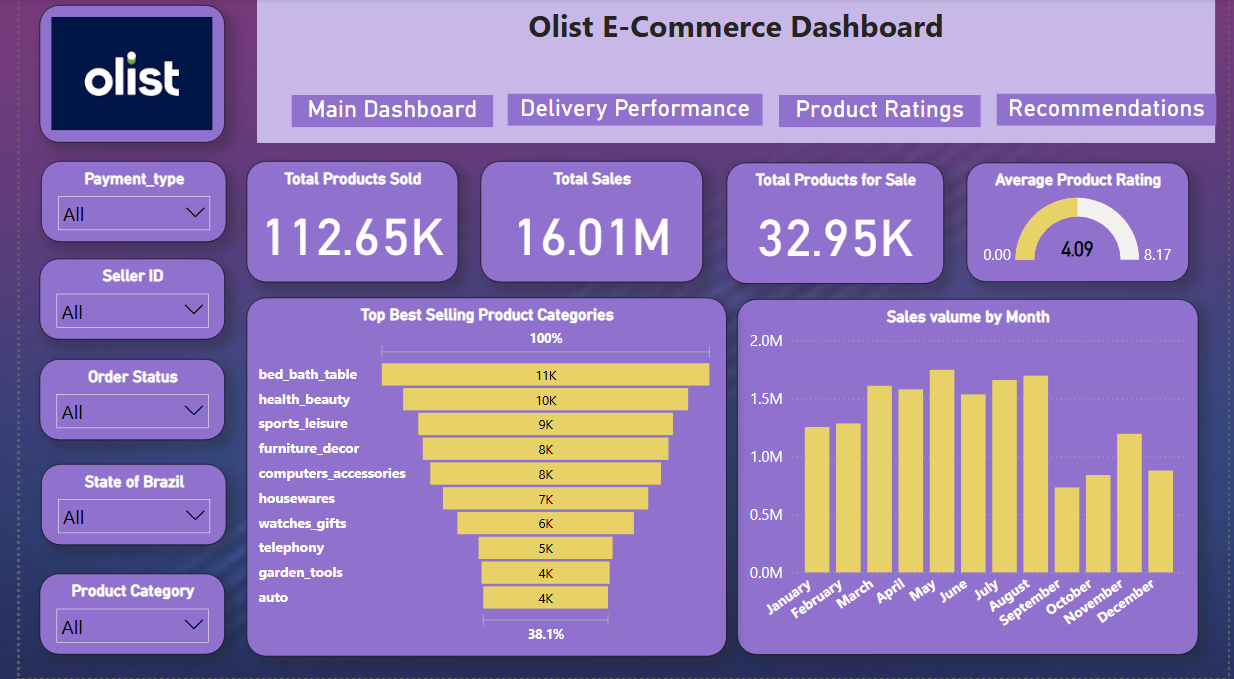

Layout of this report page (visuals, bound fields, positions):
{"tool":"powerbi","page":{"name":"Page 1","canvas":[1280,720],"ordinal":0},"visuals":[{"type":"card","title":"Total Sales","fields":{"Values":["Sum(olist_order_payments.payment_value)"]},"box":[487.7,172.3,235.7,128.4],"z":0},{"type":"card","title":"Total Products  Sold","fields":{"Values":["olist_order_items.Total_Products_sold"]},"box":[240.6,172.3,224.4,128.4],"z":1000},{"type":"slicer","title":"Product Category","fields":{"Values":["product_category_name_translation.product_category_name_english"]},"box":[21.1,609.7,196.7,86.2],"z":2000},{"type":"slicer","title":"Order Status","fields":{"Values":["olist_orders.order_status"]},"box":[21.1,382.1,196.7,86.2],"z":3000},{"type":"slicer","title":"State of Brazil","fields":{"Values":["customer_olist.customer_state"]},"box":[22.8,492.6,196.7,86.2],"z":4000},{"type":"slicer","title":"Seller ID","fields":{"Values":["olist_sellers.seller_id"]},"box":[21.1,274.8,196.7,86.2],"z":5000},{"type":"slicer","title":"Payment_type","fields":{"Values":["olist_order_payments.payment_type"]},"box":[22.8,172.3,196.7,86.2],"z":6000},{"type":"card","title":"Total Products  for Sale","fields":{"Values":["olist_products.Total_product_for_sales"]},"box":[749.5,174,230.9,128.4],"z":7000},{"type":"gauge","title":"Average Product Rating","fields":{"Y":["olist_order_reviews.Avg Rating"]},"box":[1003.1,174,235.7,126.8],"z":8000},{"type":"columnChart","title":"Sales valume by Month","fields":{"Category":["olist_orders.order_purchase_timestamp.Variation.Date Hierarchy.Month"],"Y":["Sum(olist_order_payments.payment_value)"]},"box":[760.9,318.6,489.4,377.2],"z":9000},{"type":"textbox","box":[252,0,1016.1,152.8],"z":10000},{"type":"image","box":[21.1,6.5,196.7,146.3],"z":11000},{"type":"funnel","title":"Top Best Selling Product Categories","fields":{"Y":["olist_order_items.Total_Products_sold"],"Category":["product_category_name_translation.product_category_name_english"]},"box":[240.1,316.7,509.2,380.9],"z":12000},{"type":"actionButton","title":"Main Dashboard","box":[288.3,102,213.8,40.5],"z":13000},{"type":"actionButton","title":"Delivery Performance","box":[516.6,100.4,270.5,40.5],"z":14000},{"type":"actionButton","title":"Product Ratings","box":[804.9,102,213.8,40.5],"z":15000},{"type":"actionButton","title":"Recommendations","box":[1034.9,100.4,233.2,40.5],"z":16000}]}

Visuals, with their boxes in screenshot pixels (x1, y1, x2, y2), scaled from the page's 1280x720 canvas onto the 1234x679 screenshot:
"Total Sales" card: <region>470, 162, 697, 284</region>
"Total Products  Sold" card: <region>232, 162, 448, 284</region>
"Product Category" slicer: <region>20, 575, 210, 656</region>
"Order Status" slicer: <region>20, 360, 210, 442</region>
"State of Brazil" slicer: <region>22, 465, 212, 546</region>
"Seller ID" slicer: <region>20, 259, 210, 340</region>
"Payment_type" slicer: <region>22, 162, 212, 244</region>
"Total Products  for Sale" card: <region>723, 164, 945, 285</region>
"Average Product Rating" gauge: <region>967, 164, 1194, 284</region>
"Sales valume by Month" columnChart: <region>734, 300, 1205, 656</region>
textbox: <region>243, 0, 1223, 144</region>
image: <region>20, 6, 210, 144</region>
"Top Best Selling Product Categories" funnel: <region>231, 299, 722, 658</region>
"Main Dashboard" actionButton: <region>278, 96, 484, 134</region>
"Delivery Performance" actionButton: <region>498, 95, 759, 133</region>
"Product Ratings" actionButton: <region>776, 96, 982, 134</region>
"Recommendations" actionButton: <region>998, 95, 1223, 133</region>
